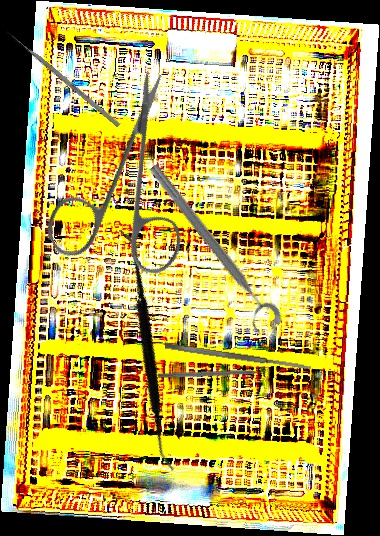Fixation Ring: (135, 159, 287, 340)
Hook Surgical: (157, 368, 274, 380)
Iris Scissors: (1, 66, 249, 313)
Pusher: (5, 29, 121, 128)
Spatula Surgical: (27, 227, 265, 474), (164, 341, 312, 373)
